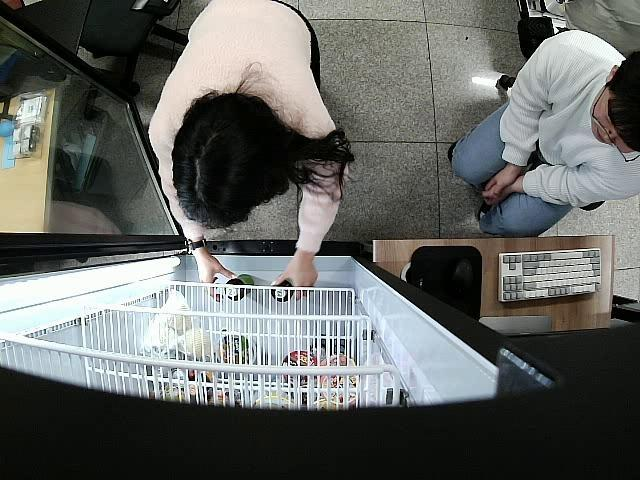19_17cha: (222, 274, 254, 301), (275, 277, 296, 299)
